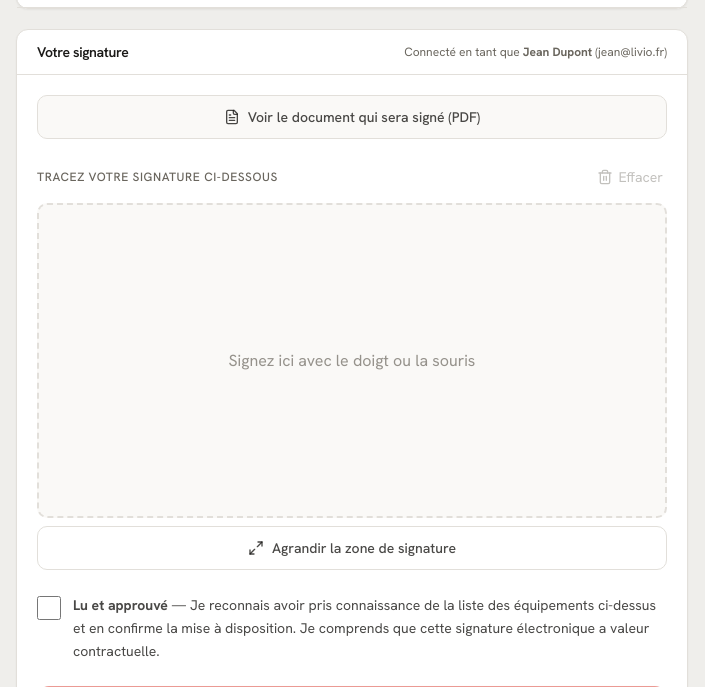
Test: SignaturePage › keeps "Effacer" disabled until something is drawn, then clears the canvas
(page scrolled)
Expected: the button "Effacer" is disabled, [584,155,675,199]
Press the mouse on the drawing at [352, 360], box [39,205,665,516]
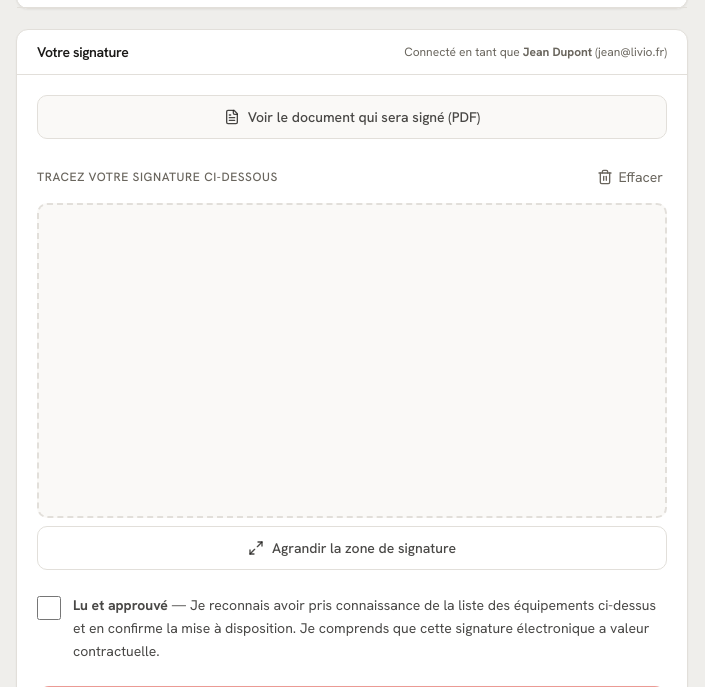
Result: the button "Effacer" is enabled
Click the button "Effacer" at [630, 177], box [584,155,675,199]
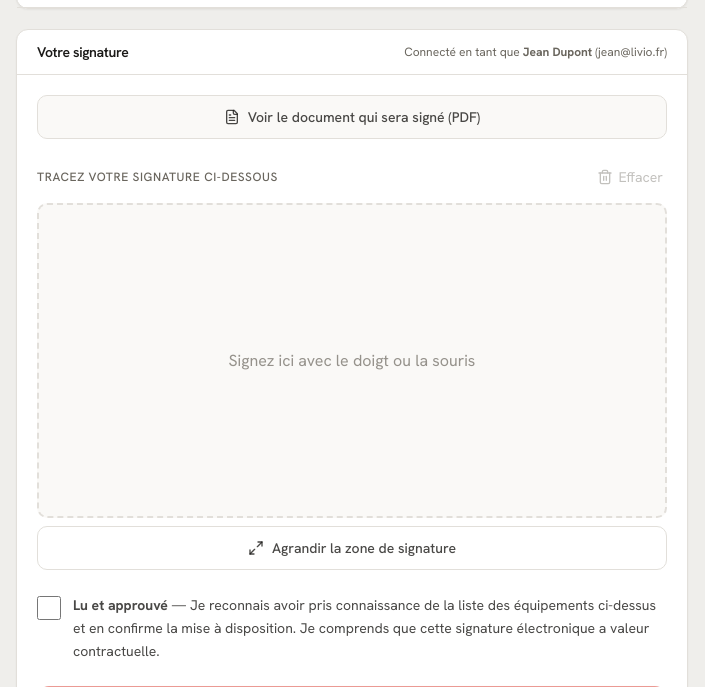
Result: the button "Effacer" is disabled at [584,155,675,199]
